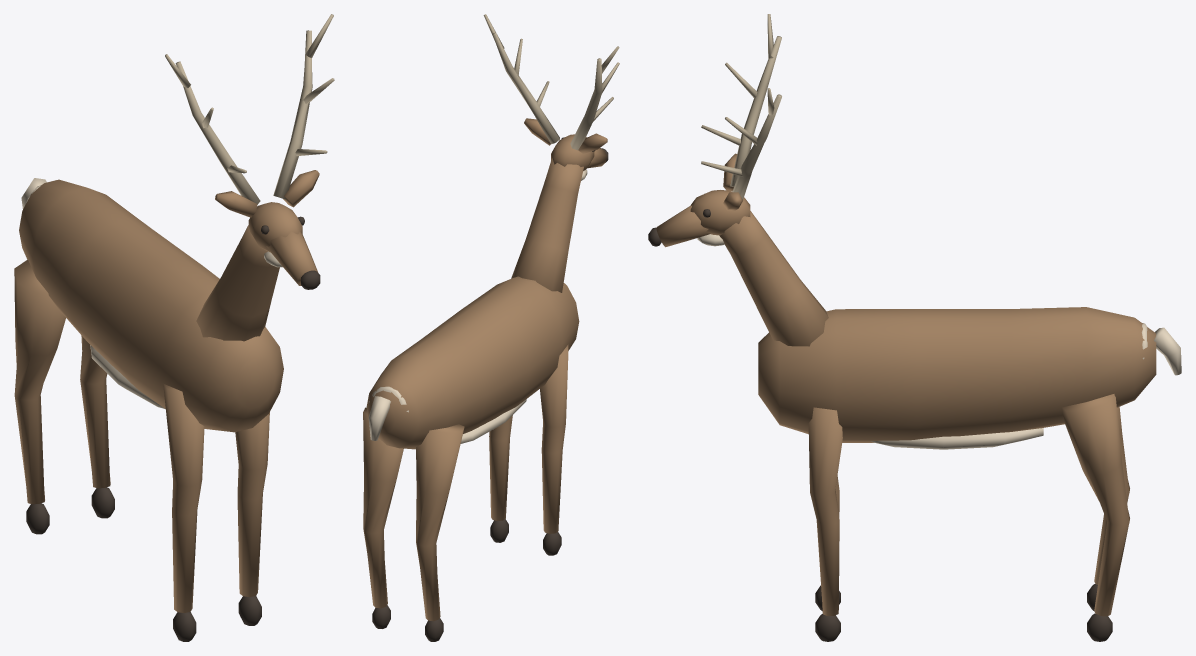
Rendered from ciervo.glb.
3 renders of one model, left to right at view 1: azimuth 30°, elevation 25°; view 2: azimuth 150°, elevation 25°; view 3: azimuth 270°, elevation 25°, orthographic. The views are drawn at different scales.
Visible parts, largest first — view 1: Cuerpo, Cuello, PataTI, PataDI, PataDD, Astas, PataTD; view 2: Cuerpo, Cuello, PataTI, PataTD, PataDI, Astas, PataDD; view 3: Cuerpo, Cuello, PataTD, PataDD, Astas, PataTI.
Boxes of the visible parts, box(x1,y1,x2,y2) form: Cuerpo: box(19, 178, 283, 432); Cuello: box(196, 170, 320, 341); PataTI: box(14, 259, 65, 534); PataDI: box(163, 383, 204, 641); PataDD: box(235, 412, 269, 625); Astas: box(165, 14, 334, 204); PataTD: box(80, 335, 114, 518); Cuerpo: box(366, 276, 579, 449); Cuello: box(511, 118, 608, 292); PataTI: box(416, 424, 464, 641); PataTD: box(363, 407, 403, 628); PataDI: box(540, 344, 568, 555); Astas: box(483, 14, 619, 150); PataDD: box(489, 415, 512, 542); Cuerpo: box(758, 307, 1181, 449); Cuello: box(648, 153, 828, 346); PataTD: box(1062, 394, 1129, 641); PataDD: box(808, 407, 842, 641); Astas: box(701, 14, 781, 199); PataTI: box(1087, 407, 1129, 611).
Size of the model in its own units: 0.6697 by 2.36 by 1.98.
